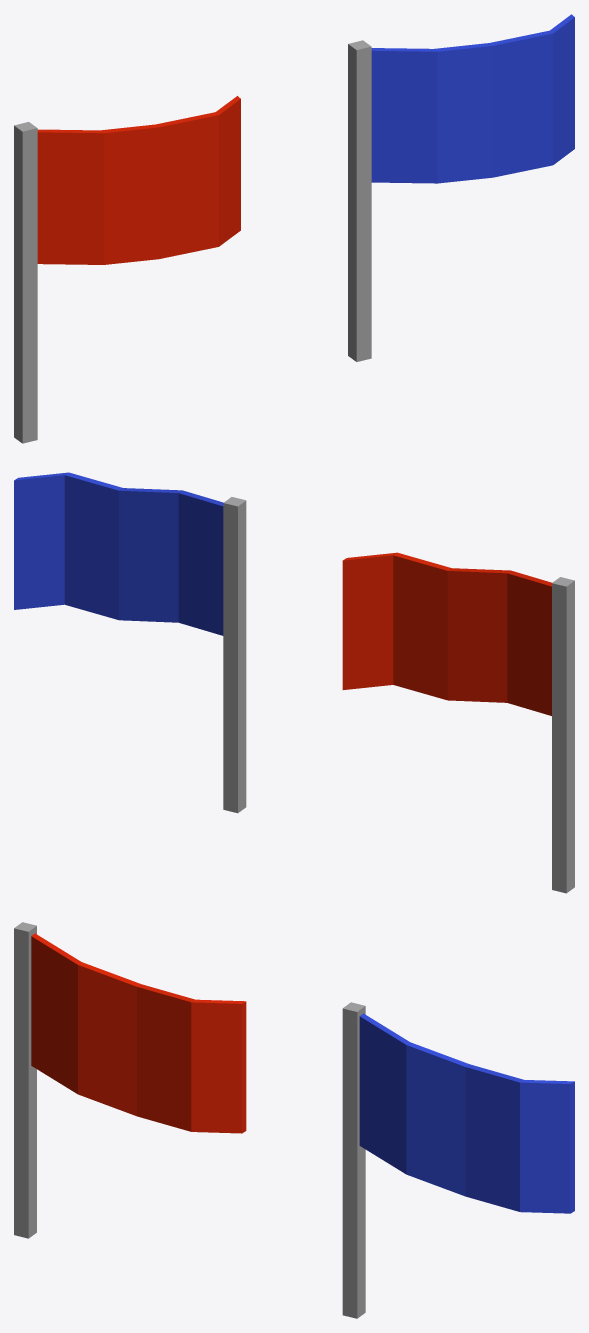
Rendered from flags.fbx.
The picture shows the model from 3 angles, top to bottom: view 1: azimuth 30°, elevation 25°; view 2: azimuth 150°, elevation 25°; view 3: azimuth 330°, elevation 25°; orthographic projection.
Parts seen in each view (by area): view 1: Cube.001, Cube; view 2: Cube.001, Cube; view 3: Cube.001, Cube.
Boxes of the visible parts, left/top/right/bottom form: Cube.001: left=348, top=14, right=574, bottom=361; Cube: left=14, top=96, right=240, bottom=443; Cube.001: left=14, top=472, right=246, bottom=813; Cube: left=342, top=552, right=574, bottom=893; Cube.001: left=342, top=1002, right=574, bottom=1318; Cube: left=14, top=922, right=246, bottom=1238.
Size of the model in its own units: 188 by 100 by 10.9.
